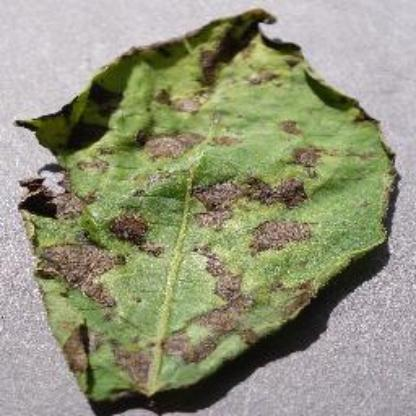Early-Blight: (16, 8, 394, 408)
